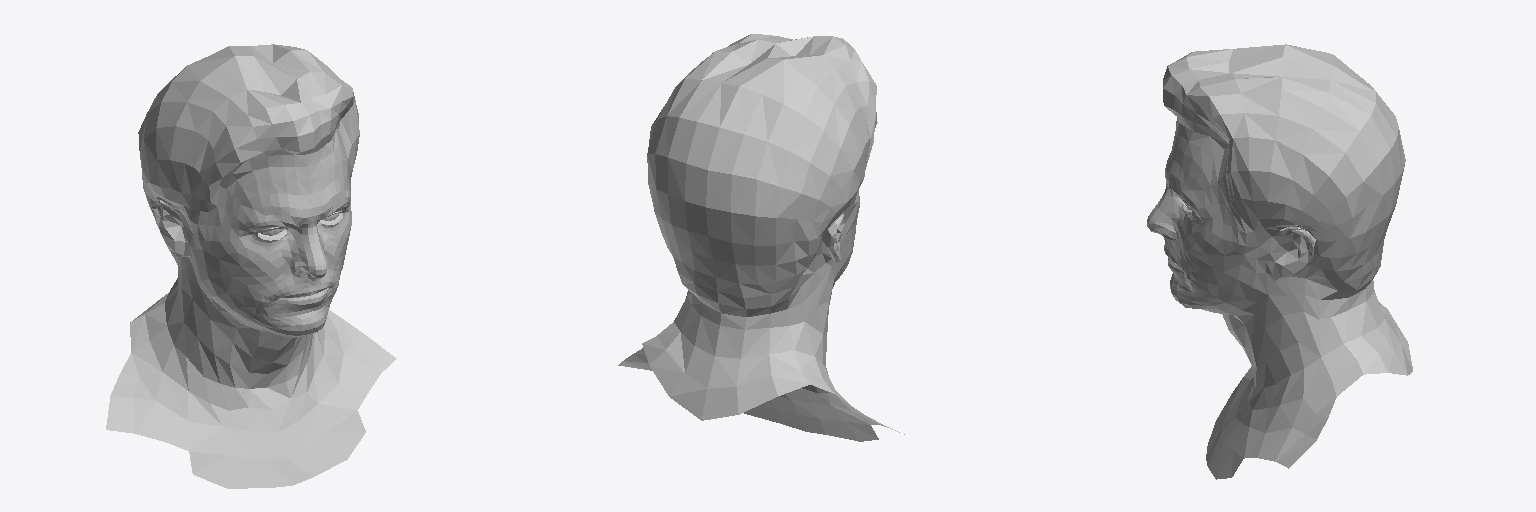
The model's file is pojebiemniexd.obj.
3 renders of one model, left to right at view 1: azimuth 30°, elevation 25°; view 2: azimuth 150°, elevation 25°; view 3: azimuth 270°, elevation 25°, orthographic.
Visible parts, largest first — view 1: theillusiveman_illHead; view 2: theillusiveman_illHead; view 3: theillusiveman_illHead.
Part boxes in pixels (x1,y1,x2,y2): theillusiveman_illHead: (106, 44, 396, 488); theillusiveman_illHead: (618, 34, 904, 441); theillusiveman_illHead: (1147, 44, 1412, 479).
Size of the model in its own units: 11.41 by 15.17 by 9.06.